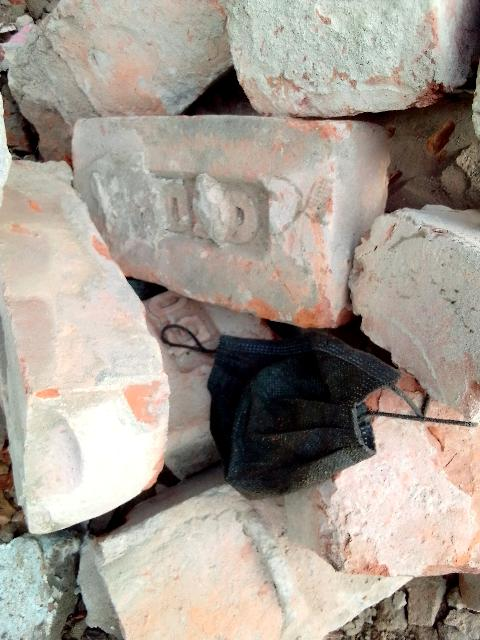mask: (227, 329, 384, 494)
